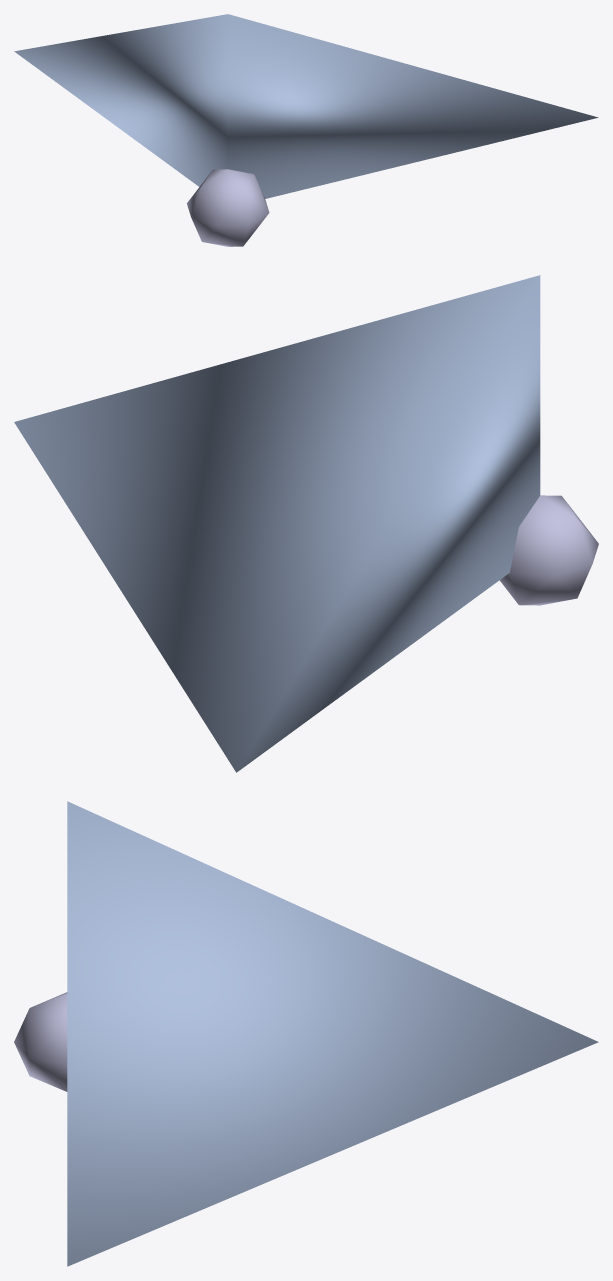
File: anonymized-segments.glb
3 renders of one model, top to bottom at view 1: azimuth 30°, elevation 25°; view 2: azimuth 150°, elevation 25°; view 3: azimuth 270°, elevation 25°, orthographic. The views are drawn at different scales.
Visible parts, largest first — view 1: Segment 1 mesh, Segment 2 mesh; view 2: Segment 1 mesh, Segment 2 mesh; view 3: Segment 1 mesh, Segment 2 mesh.
Part boxes in pixels (box(x1,y1,x2,y2)): Segment 1 mesh: box(14, 14, 598, 198); Segment 2 mesh: box(187, 169, 269, 246); Segment 1 mesh: box(14, 275, 540, 772); Segment 2 mesh: box(499, 495, 598, 605); Segment 1 mesh: box(67, 801, 598, 1266); Segment 2 mesh: box(14, 992, 67, 1091).
Bounding box in the file's own units: 0.11 × 0.06 × 0.11.
